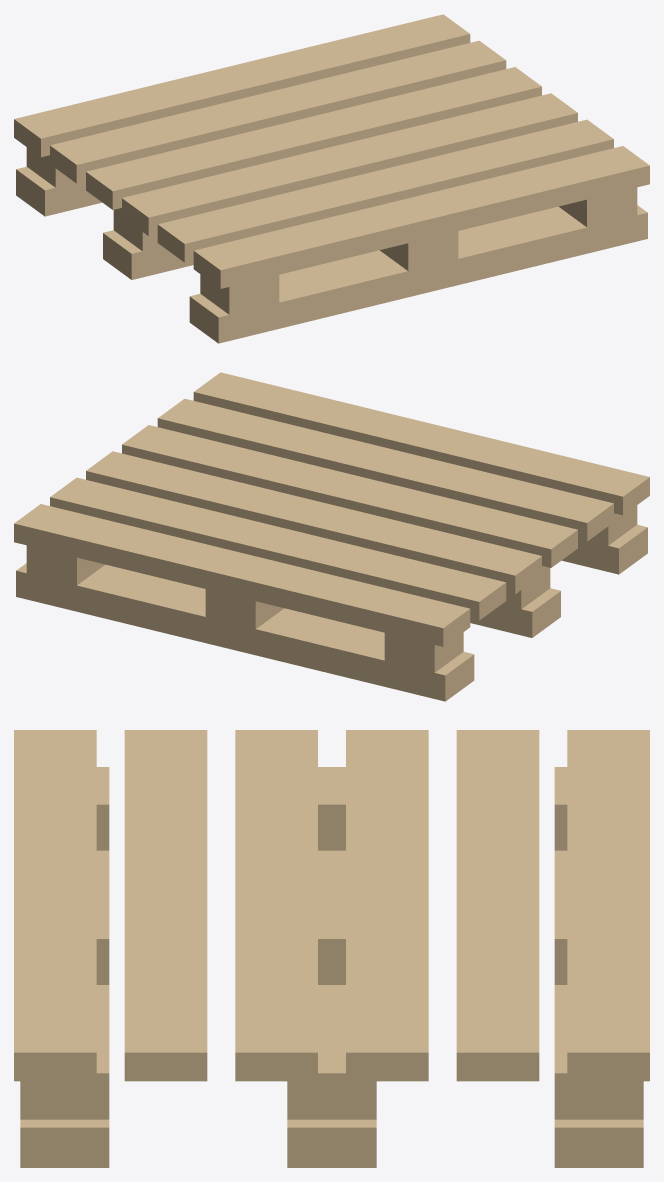
Rendered from chocolate-and-confectionery-factory-pallet-eea1b60c__36796.glb.
3 renders of one model, top to bottom at view 1: azimuth 30°, elevation 25°; view 2: azimuth 150°, elevation 25°; view 3: azimuth 270°, elevation 25°, orthographic. The views are drawn at different scales.
Visible parts, largest first — view 1: pallet; view 2: pallet; view 3: pallet.
Boxes of the visible parts, bbox=[...] form: pallet: bbox=[14, 14, 649, 343]; pallet: bbox=[14, 372, 649, 701]; pallet: bbox=[14, 730, 649, 1167].
Bounding box in the file's own units: 1.2 × 0.2 × 1.
